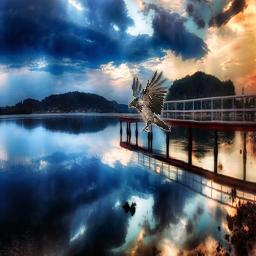Crow: (129, 70, 172, 133)
